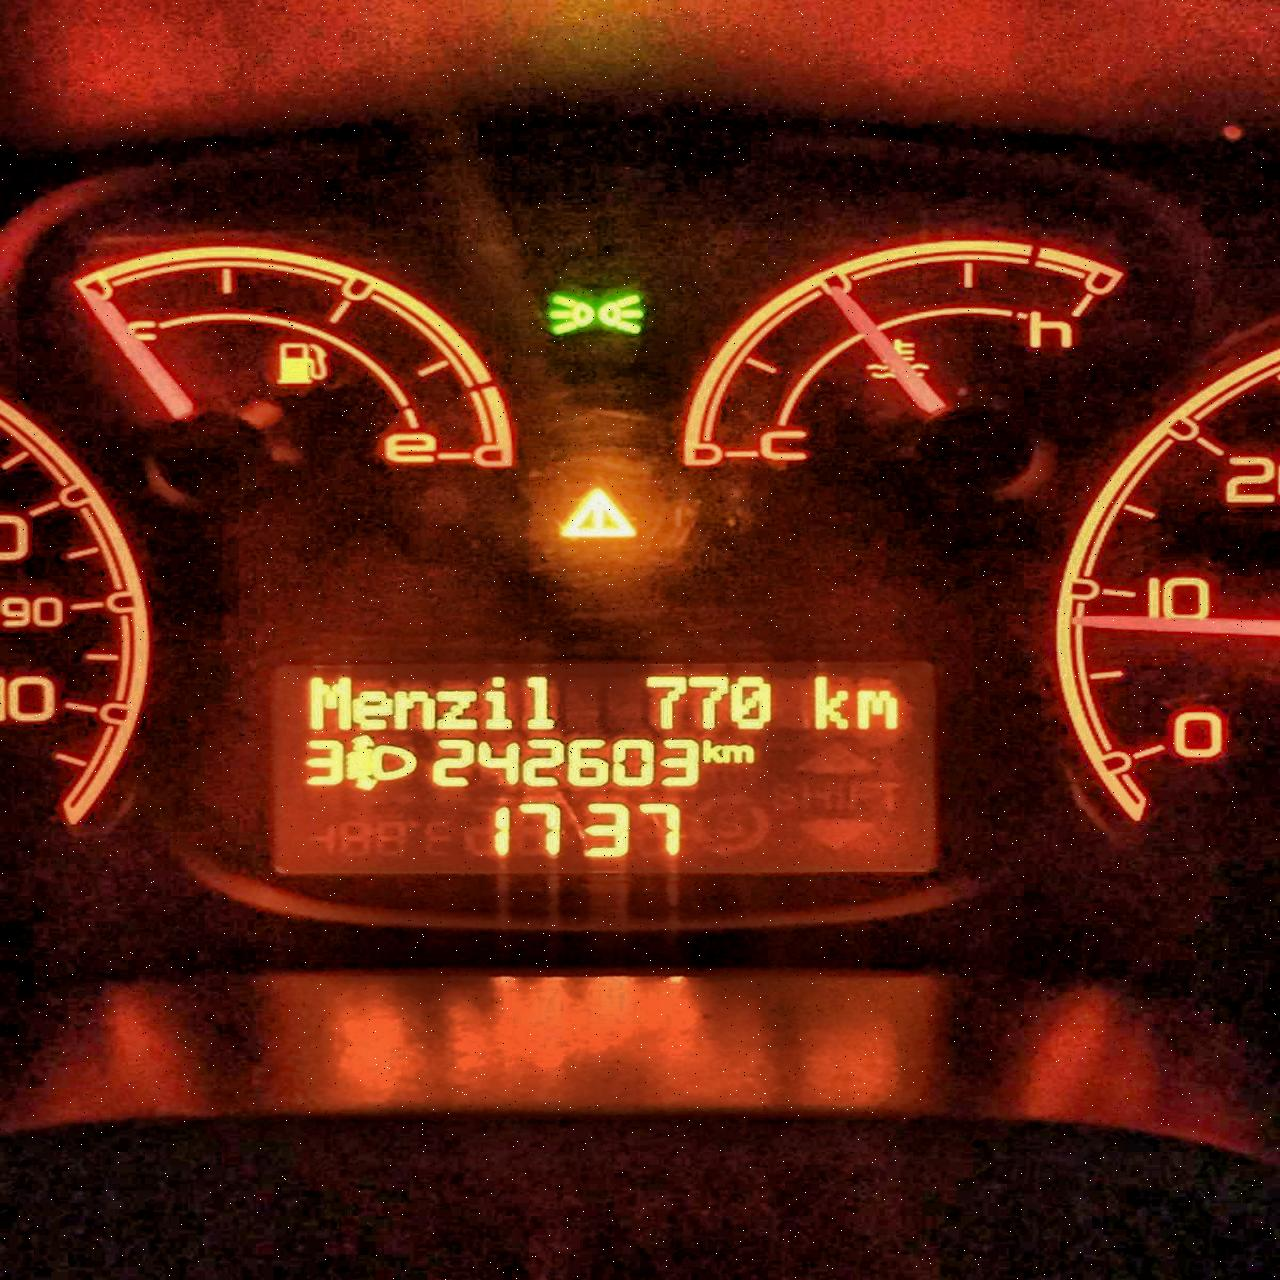0: (729, 673, 772, 729), (611, 737, 652, 785)
1: (489, 803, 512, 862)
2: (431, 738, 476, 790), (522, 735, 564, 787)
3: (581, 797, 632, 862), (299, 734, 345, 789), (659, 736, 700, 789)
4: (476, 737, 520, 787)
6: (566, 737, 608, 785)
7: (515, 797, 564, 858), (636, 797, 682, 858), (645, 669, 685, 733), (688, 669, 727, 727)
X: (307, 675, 349, 731), (522, 669, 560, 729), (811, 672, 850, 730), (434, 687, 478, 731), (482, 674, 515, 733), (855, 687, 899, 729), (349, 688, 393, 730), (394, 688, 434, 730), (721, 743, 755, 763), (702, 737, 721, 764)
odometer: (267, 645, 951, 887)
